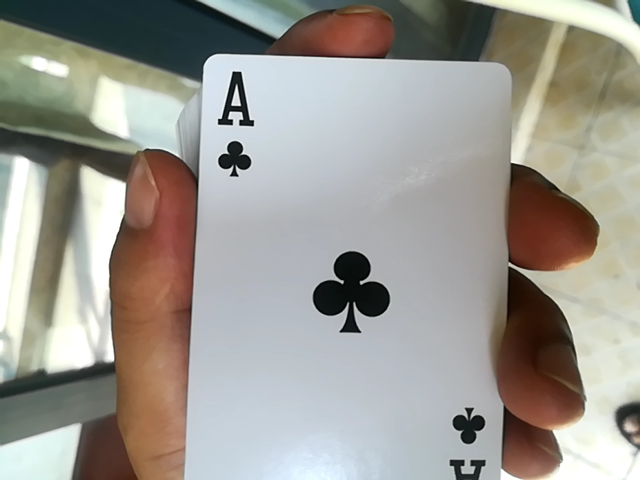mh a: (167, 48, 536, 478)
